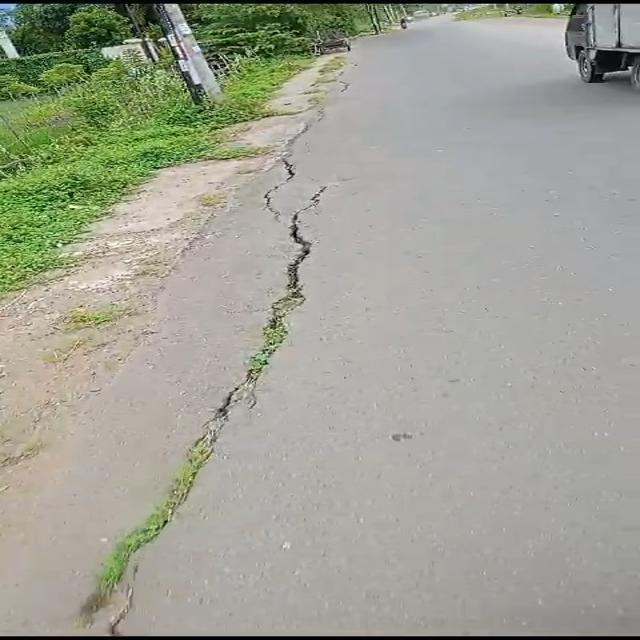Memanjang: (68, 170, 346, 640)
